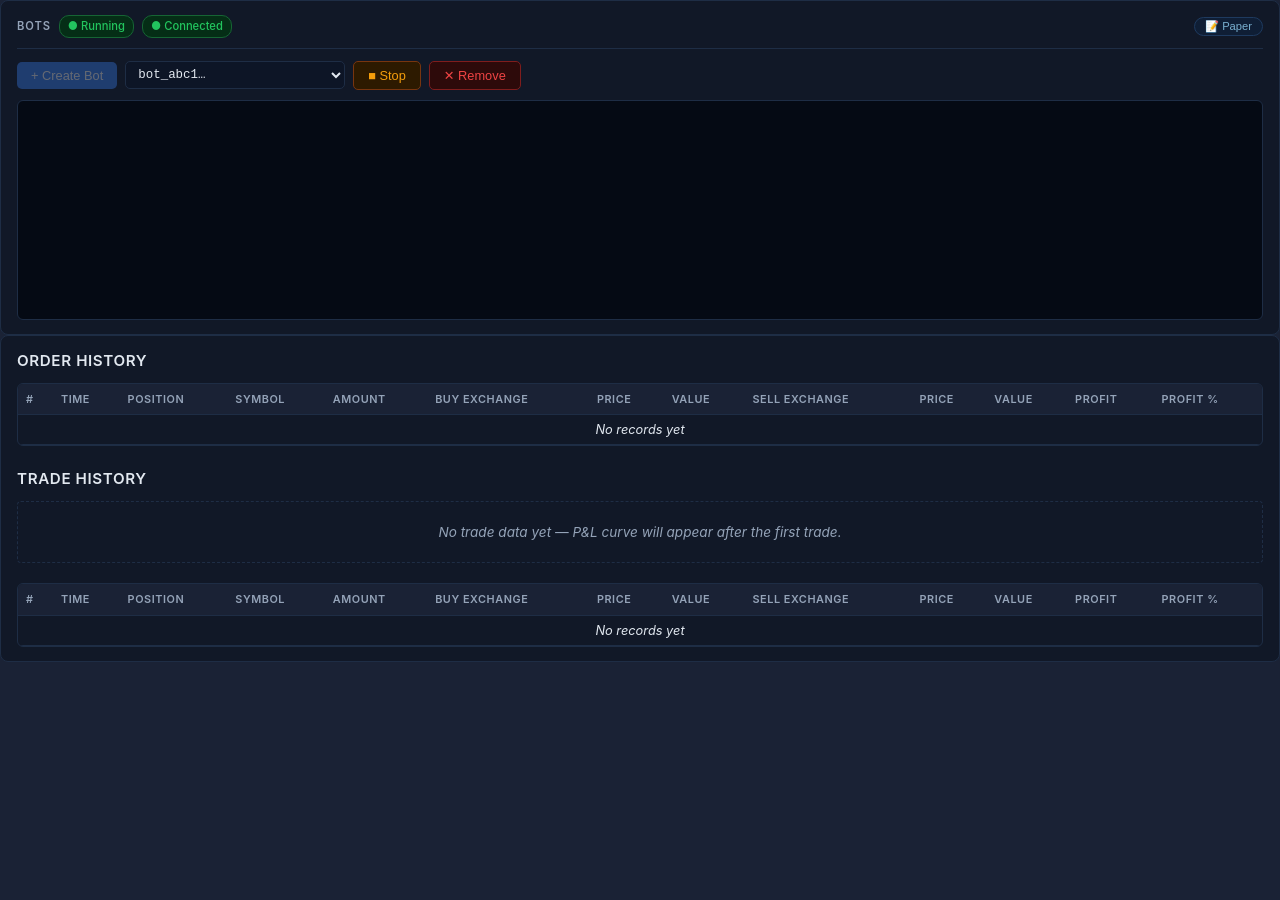
Test case: Bots — remove bot modal › shows remove confirm modal when clicking Remove
This screenshot has width=1280, height=900.
Click the button titled "Remove bot bot_abc123" at (475,75), box [429, 61, 521, 90]
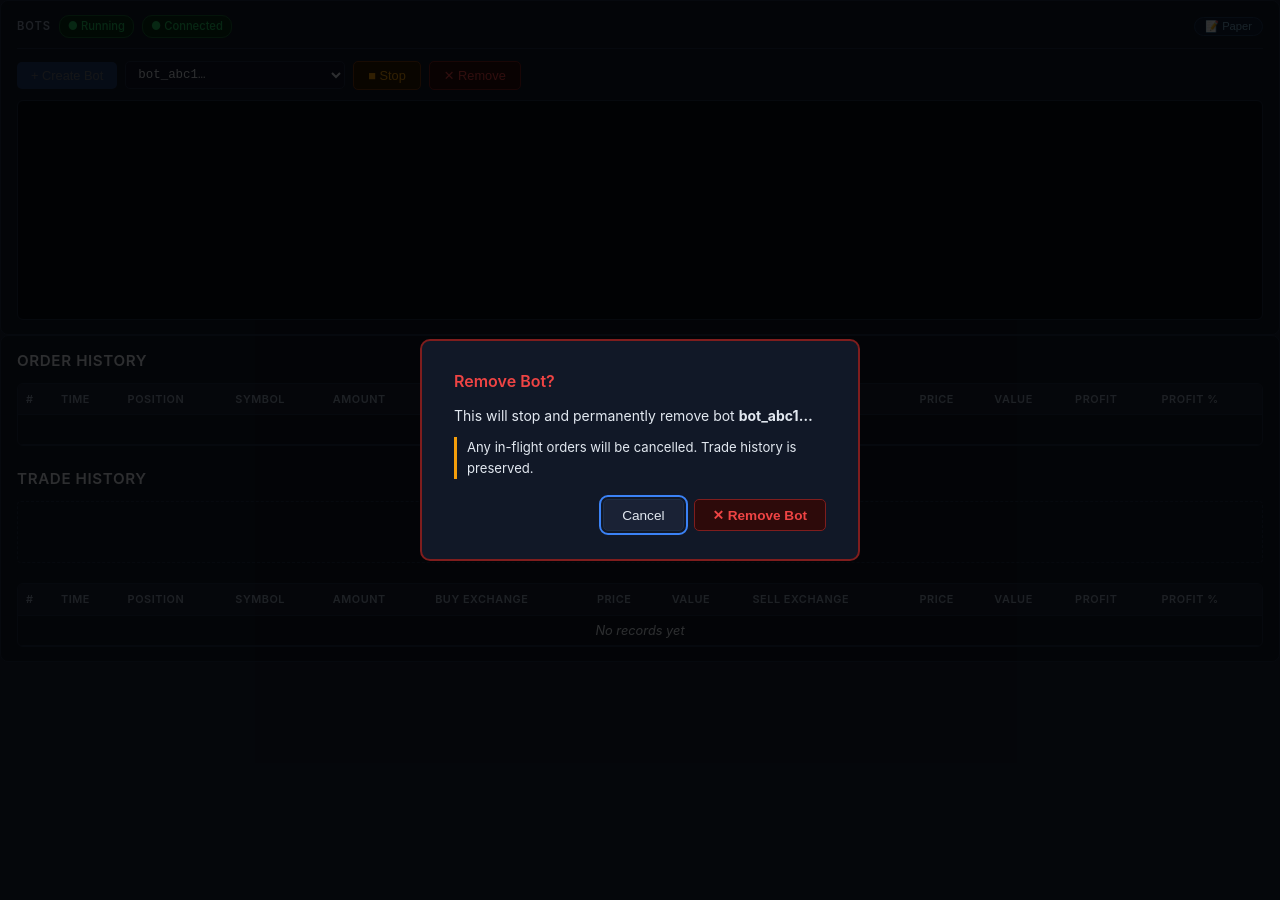
Now the dialog is shown
Now the heading "Remove Bot?" is shown, box [454, 371, 555, 391]
